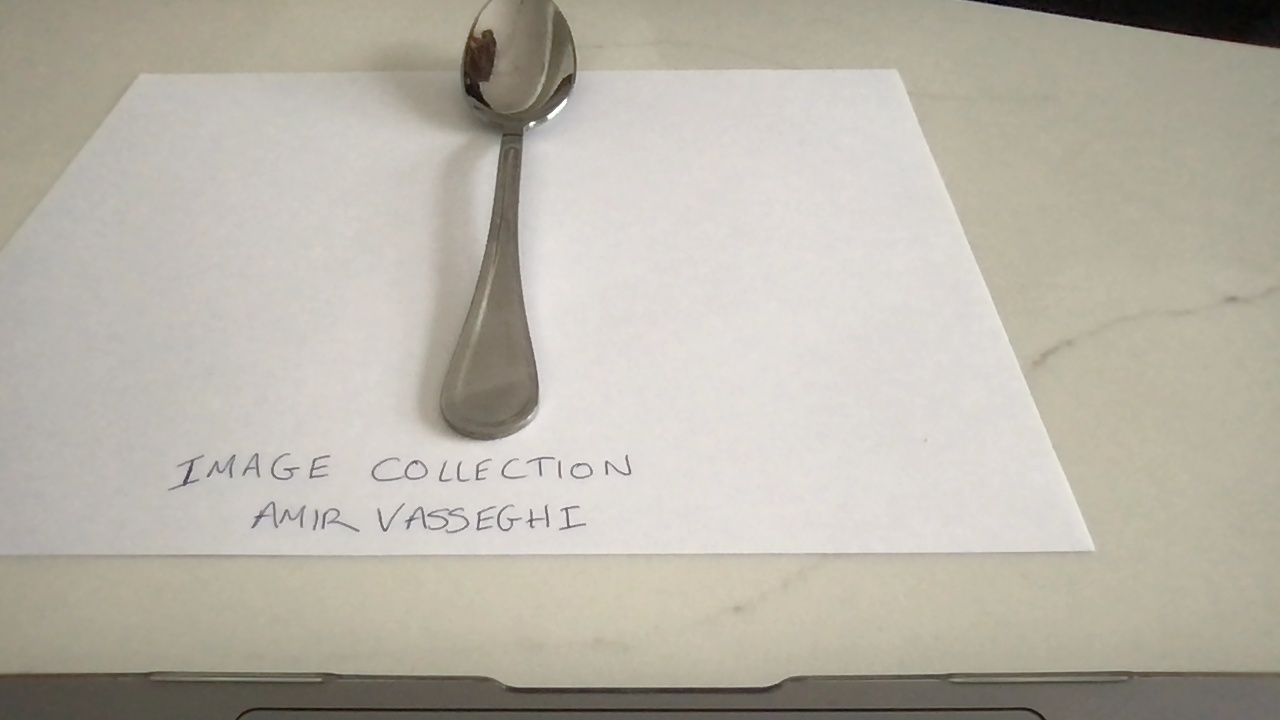spoon: (438, 1, 579, 440)
